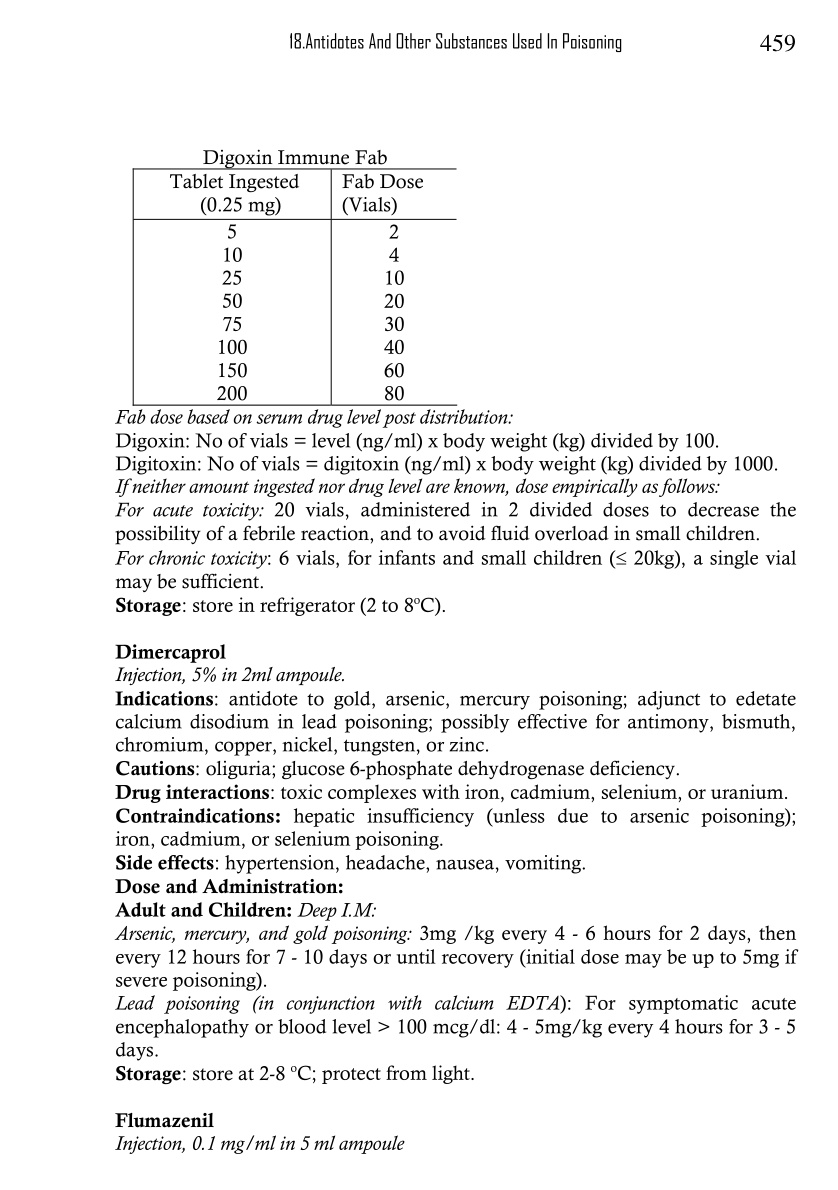partial_lined: (133, 167, 457, 408)
